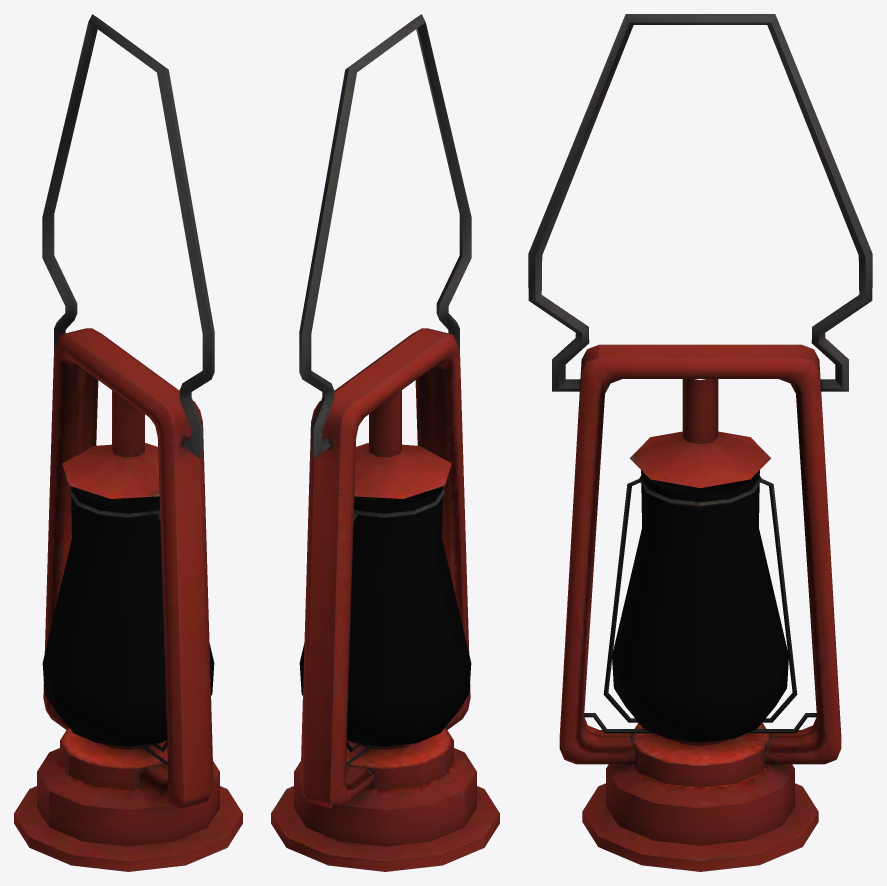
3 renders of one model, left to right at view 1: azimuth 30°, elevation 25°; view 2: azimuth 150°, elevation 25°; view 3: azimuth 270°, elevation 25°, orthographic. The views are drawn at different scales.
Parts seen in each view (by area): view 1: body0_model0_lod0_mesh1, body0_model0_lod0_mesh0; view 2: body0_model0_lod0_mesh1, body0_model0_lod0_mesh0; view 3: body0_model0_lod0_mesh1, body0_model0_lod0_mesh0.
Boxes of the visible parts, x1,y1,x2,y2 form: body0_model0_lod0_mesh1: (14, 14, 242, 871); body0_model0_lod0_mesh0: (42, 486, 214, 746); body0_model0_lod0_mesh1: (271, 14, 499, 871); body0_model0_lod0_mesh0: (299, 486, 471, 746); body0_model0_lod0_mesh1: (528, 14, 872, 871); body0_model0_lod0_mesh0: (612, 470, 788, 742).
Bounding box in the file's own units: 12.5 × 47.2 × 18.24.
Materials: 2 (1 with a texture image).
